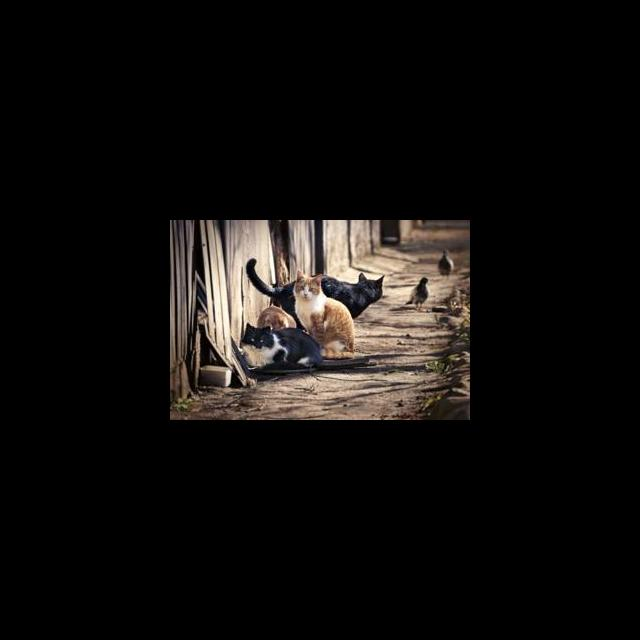animals: (291, 271, 364, 363), (238, 322, 330, 376), (344, 263, 392, 303)
